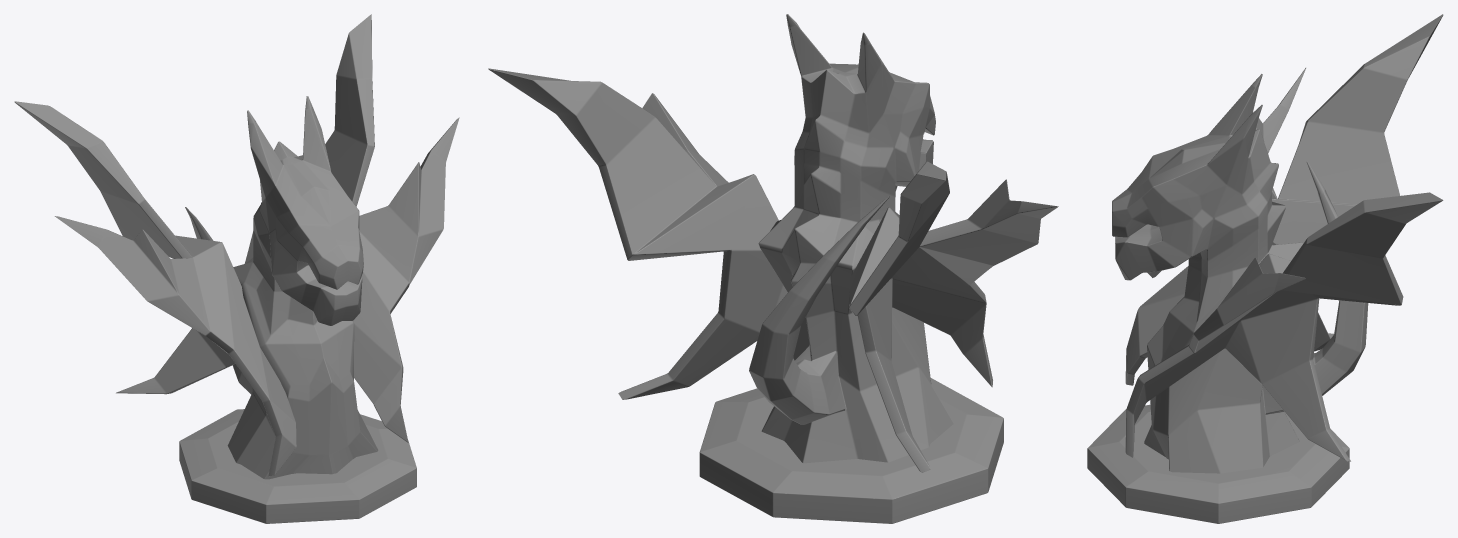
Rendered from samuray_n_w.glb.
3 renders of one model, left to right at view 1: azimuth 30°, elevation 25°; view 2: azimuth 150°, elevation 25°; view 3: azimuth 270°, elevation 25°, orthographic. The views are drawn at different scales.
Visible parts, largest first — view 1: b_D2_2; view 2: b_D2_2; view 3: b_D2_2.
Boxes of the visible parts, box(x1,y1,x2,y2) form: b_D2_2: box(14, 14, 459, 523); b_D2_2: box(488, 14, 1058, 523); b_D2_2: box(1087, 14, 1443, 523).
Size of the model in its own units: 3.13 by 2.67 by 2.24.
1 material, 1 textured.
